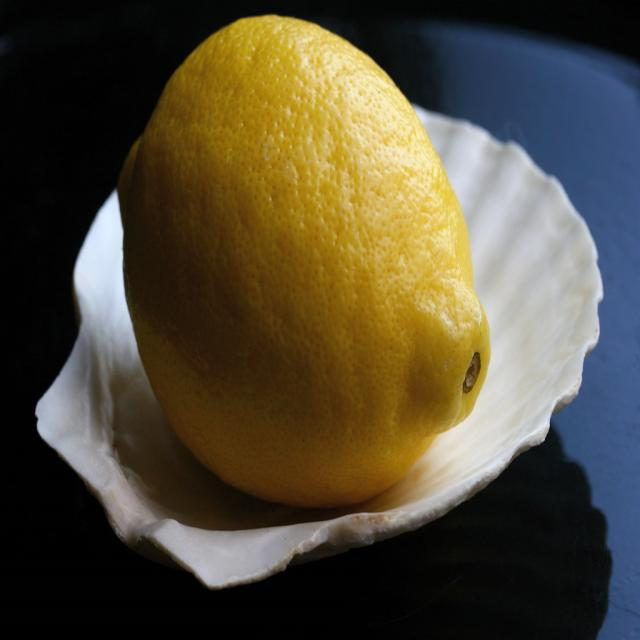Lemon: (108, 19, 496, 501)
